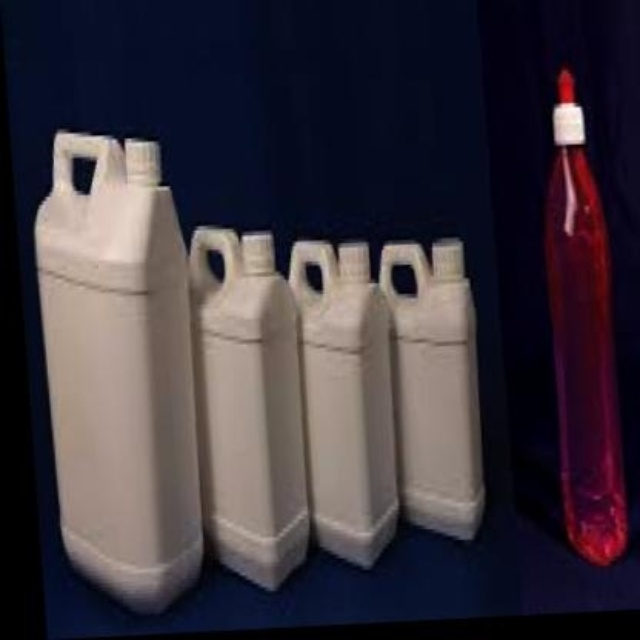trash: (35, 131, 202, 611), (191, 226, 308, 589), (546, 66, 626, 563), (289, 242, 397, 568), (380, 238, 483, 538)
